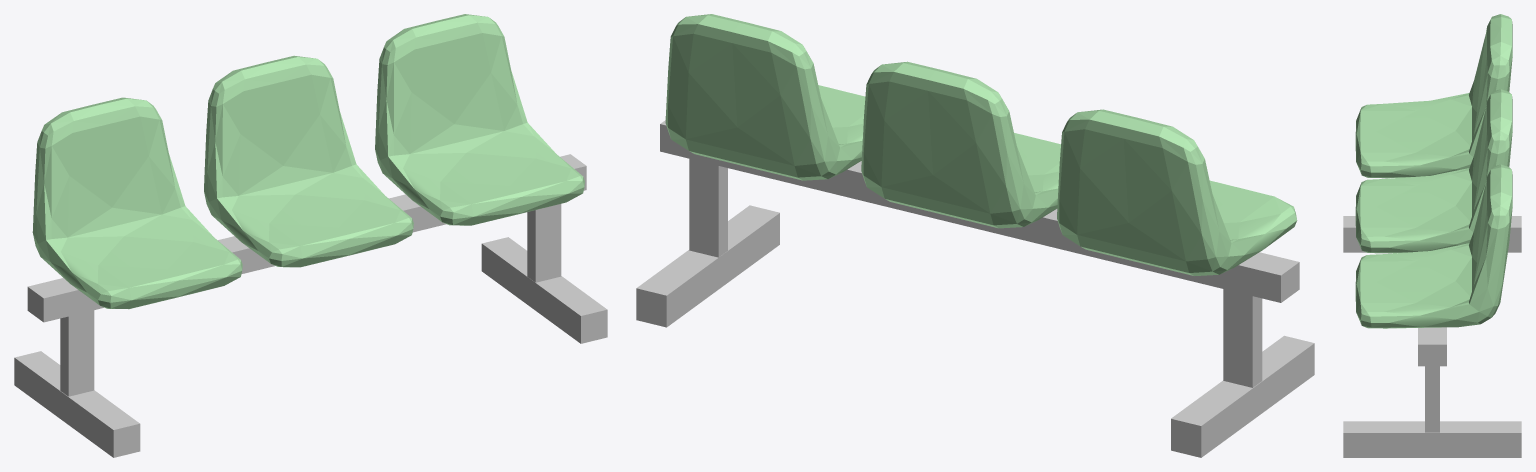
File: MD_REbenti_prototype.fbx
The picture shows the model from 3 angles, left to right: view 1: azimuth 30°, elevation 25°; view 2: azimuth 150°, elevation 25°; view 3: azimuth 270°, elevation 25°; orthographic projection. The views are drawn at different scales.
Parts seen in each view (by area): view 1: be:pCube7, be:pCube1, be:pCube8, be:pCube5, be:pCube6, be:pCube2, be:pCube3, be:pCube4; view 2: be:pCube8, be:pCube7, be:pCube1, be:pCube2, be:pCube5, be:pCube6, be:pCube3, be:pCube4; view 3: be:pCube7, be:pCube1, be:pCube8, be:pCube6, be:pCube2, be:pCube4, be:pCube5.
Part boxes in pixels (x1=…): be:pCube7: x1=375, y1=14, x2=584, y2=225; be:pCube1: x1=204, y1=55, x2=413, y2=267; be:pCube8: x1=32, y1=97, x2=242, y2=309; be:pCube5: x1=14, y1=351, x2=140, y2=457; be:pCube6: x1=481, y1=237, x2=607, y2=343; be:pCube2: x1=27, y1=154, x2=586, y2=322; be:pCube3: x1=60, y1=310, x2=94, y2=396; be:pCube4: x1=527, y1=204, x2=561, y2=282; be:pCube8: x1=1057, y1=109, x2=1297, y2=275; be:pCube7: x1=665, y1=14, x2=865, y2=180; be:pCube1: x1=861, y1=61, x2=1060, y2=228; be:pCube2: x1=660, y1=120, x2=1299, y2=302; be:pCube5: x1=1171, y1=335, x2=1314, y2=457; be:pCube6: x1=636, y1=205, x2=779, y2=327; be:pCube3: x1=1223, y1=289, x2=1262, y2=387; be:pCube4: x1=689, y1=159, x2=727, y2=257; be:pCube7: x1=1355, y1=164, x2=1512, y2=328; be:pCube1: x1=1355, y1=89, x2=1512, y2=253; be:pCube8: x1=1355, y1=14, x2=1512, y2=178; be:pCube6: x1=1343, y1=421, x2=1521, y2=457; be:pCube2: x1=1418, y1=327, x2=1446, y2=366; be:pCube4: x1=1425, y1=366, x2=1439, y2=432; be:pCube5: x1=1343, y1=216, x2=1521, y2=252.
Size of the model in its own units: 446 by 213 by 141.
